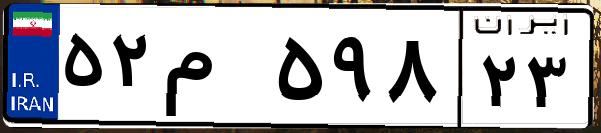2: (475, 38, 525, 113), (110, 28, 158, 98)
3: (525, 38, 570, 115)
5: (270, 28, 330, 110), (57, 26, 110, 100)
8: (385, 28, 445, 110)
9: (330, 28, 385, 110)
م: (158, 20, 270, 120)
